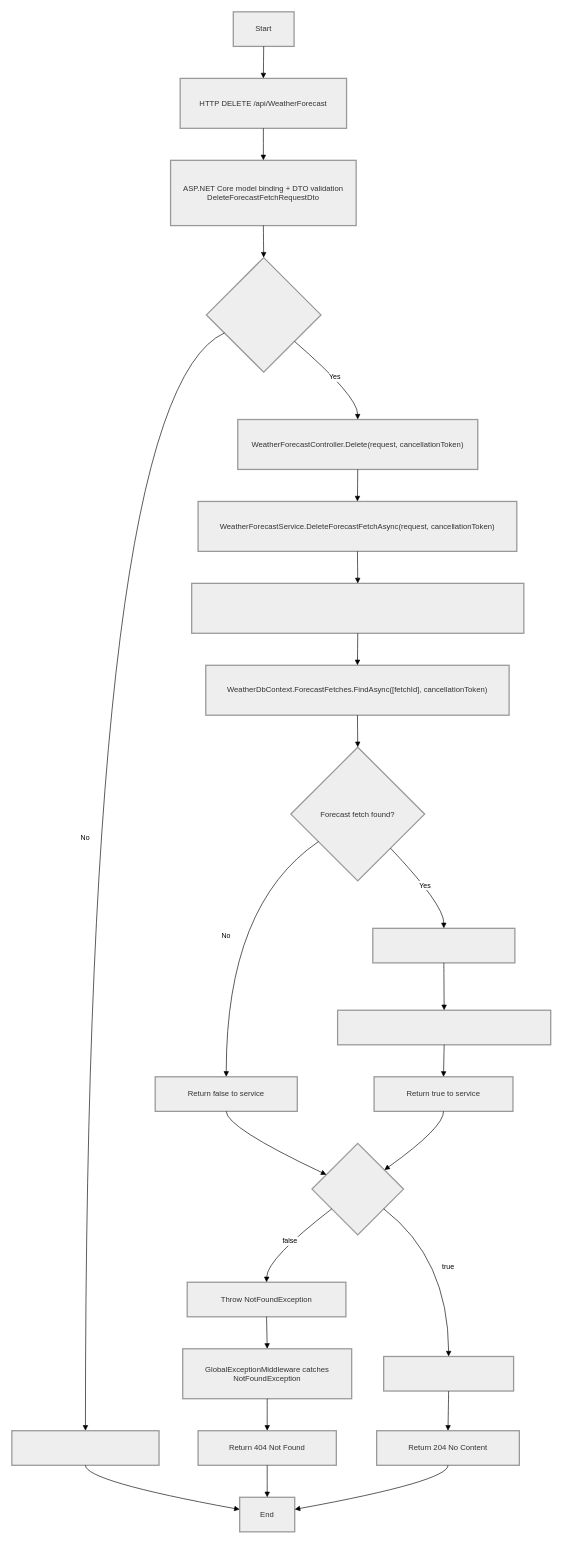
Image size: 562x1543. Some labels were removed from this diagram. Each missing label, with the centre of its shape:
ForecastRepository.DeleteForecastFetchAsync(request.FetchId, cancellationToken): the point at 357,608
ModelState valid?: the point at 263,314
Remove forecast fetch: the point at 443,945
Return 400 Bad Request: the point at 85,1448
Return to controller: the point at 448,1373
SaveChangesAsync(cancellationToken): the point at 444,1027
wasDeleted?: the point at 357,1188
